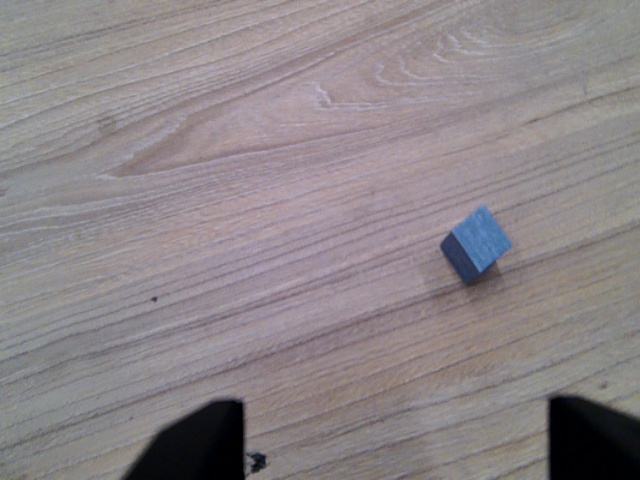stone: (441, 204, 515, 289)
